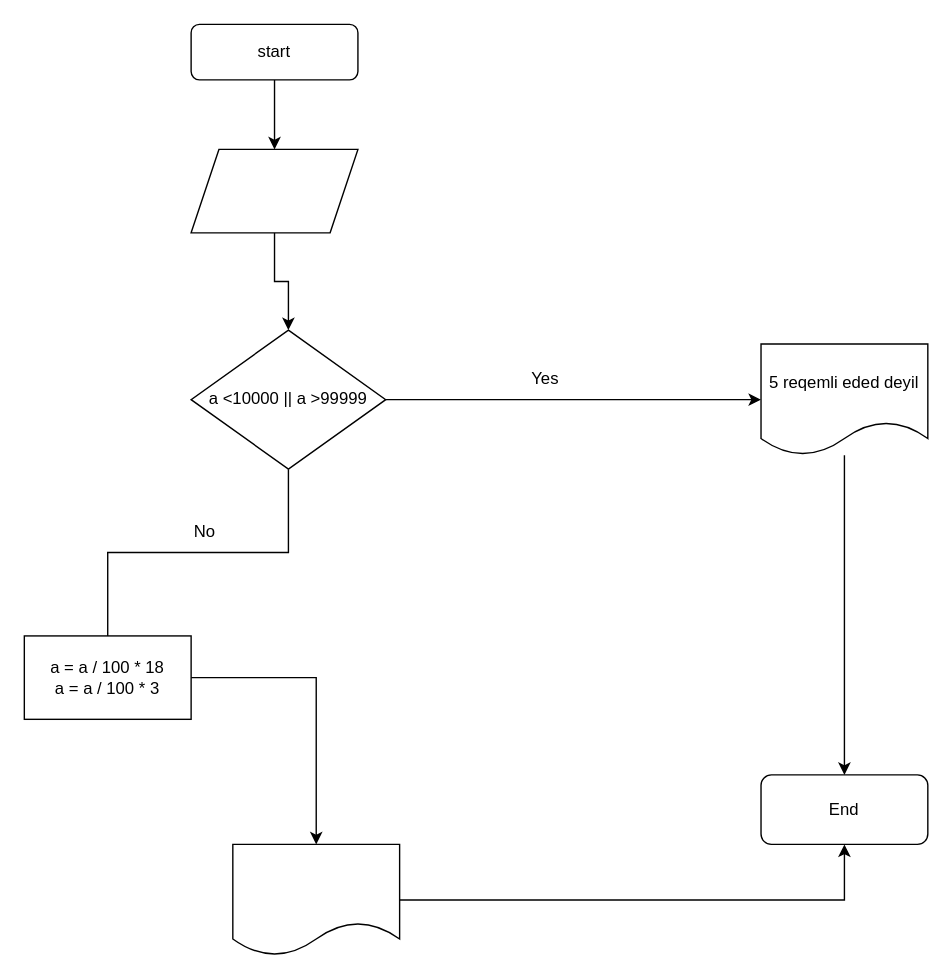
Some shapes in this 952 by 980 pixel diagram are drawn without their labels. Each missing label, with the centre of its shape:
a ededin 18%-i a ededin 3%-i: (315,899)
a=10000: (274,190)
